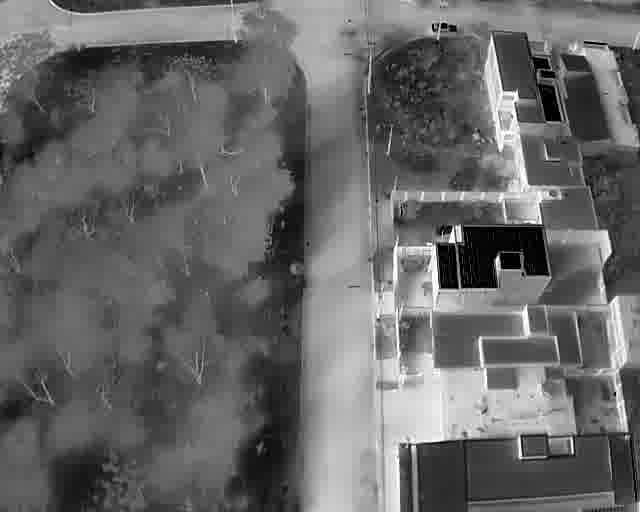car: (431, 21, 460, 34), (432, 223, 454, 240)
